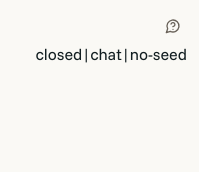
Test case: opening the assistant › passes the sentence without an English gloss when none exists
This screenshot has width=199, height=172.
Click the button named "اسأل الذكاء عن هذي الجملة": (173, 26) [159,12,187,40]
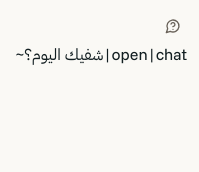
Check: the text with test id "probe" reads "open|chat|شفيك اليوم؟~", box [112,44,148,64]
